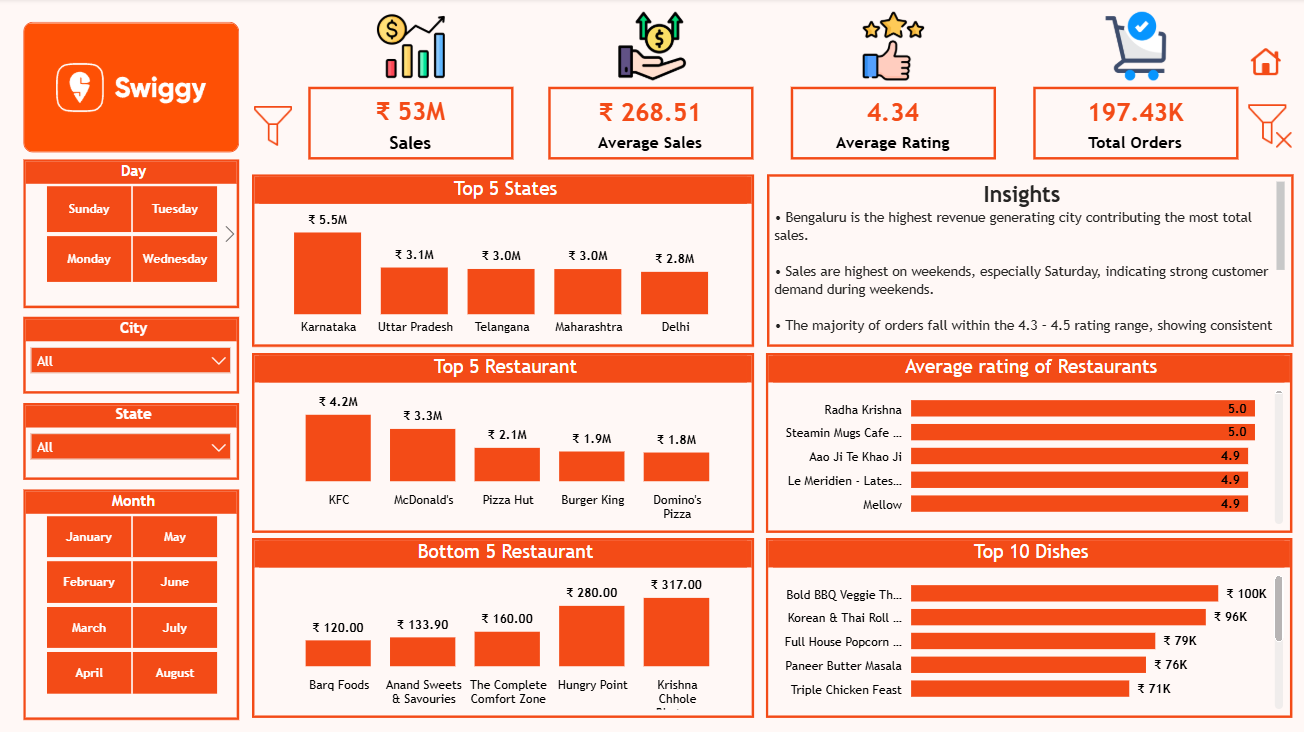

What the dashboard file says about the page in this screenshot:
{"tool":"powerbi","page":{"name":"Home","canvas":[1280,720],"ordinal":0},"visuals":[{"type":"lineChart","title":"Monthly Trend","fields":{"Category":["Calander Table.Date.Variation.Date Hierarchy.Month"],"Y":["Sum(Swiggy Data.Sales)"]},"box":[243.4,536.2,638.3,170.2],"z":0},{"type":"card","fields":{"Values":["Avg(Swiggy Data.Rating)"]},"box":[776.2,86.8,200.9,71.5],"z":1000},{"type":"card","fields":{"Values":["Sum(Swiggy Data.Sales)"]},"box":[304.7,86.8,200.9,71.5],"z":2000},{"type":"card","fields":{"Values":["Avg(Swiggy Data.Sales)"]},"box":[539.6,86.8,200.9,71.5],"z":3000},{"type":"card","fields":{"Values":["CountNonNull(Swiggy Data.Category)"]},"box":[1013.5,86.8,200.9,71.5],"z":4000},{"type":"barChart","title":"Top 5 Restaurant","fields":{"Category":["Swiggy Data.Restaurant Name"],"Y":["Sum(Swiggy Data.Sales)"]},"box":[243.4,168.5,314.9,187.2],"z":5000},{"type":"slicer","title":"State","fields":{"Values":["Swiggy Data.State"]},"box":[25.7,396.3,211,75.5],"z":6000},{"type":"slicer","title":"Month","fields":{"Values":["Calander Table.MonthName"]},"box":[25.7,480.4,211,225.2],"z":7000},{"type":"image","box":[25.7,22.8,211,128.3],"z":8000},{"type":"slicer","title":"City","fields":{"Values":["Swiggy Data.City"]},"box":[25.7,312.2,211,75.5],"z":9000},{"type":"image","box":[305,13.2,201,67],"z":10000},{"type":"image","box":[540.1,13.2,201,67],"z":11000},{"type":"image","box":[776.8,13.2,201,67],"z":12000},{"type":"image","box":[1013.6,13.2,201,67],"z":13000},{"type":"slicer","title":"Day","fields":{"Values":["Calander Table.Day Name"]},"box":[25.7,158.2,211,145.4],"z":14000},{"type":"barChart","title":"Top 5 City","fields":{"Category":["Swiggy Data.City"],"Y":["Sum(Swiggy Data.Sales)"]},"box":[568.6,170,313,187.1],"z":15000},{"type":"barChart","title":"Top Ratings","fields":{"Category":["Swiggy Data.Rating"],"Y":["Sum(Swiggy Data.Rating Count)"]},"box":[890.2,362,376.6,343.6],"z":16000},{"type":"barChart","title":"Top 5 States","fields":{"Category":["Swiggy Data.State"],"Y":["Sum(Swiggy Data.Sales)"]},"box":[890.2,168.8,376.6,187.1],"z":17000},{"type":"image","box":[236.6,104.1,68.4,42.8],"z":18000},{"type":"image","box":[1224.4,104.1,42.8,42.8],"z":19000},{"type":"lineChart","title":"Weekly Trend","fields":{"Y":["Sum(Swiggy Data.Sales)"],"Category":["Calander Table.Day Name"]},"box":[243.3,362,638.3,166.3],"z":20000},{"type":"image","box":[245,37.5,51.2,35],"z":20001},{"type":"image","box":[1216.2,43.8,51.2,28.8],"z":20002}]}

Visuals, with their boxes in screenshot pixels (x1, y1, x2, y2), scaled from the page's 1280x720 canvas onto the 1304x732 screenshot:
"Monthly Trend" lineChart: locate(248, 545, 898, 718)
card - Avg(Swiggy Data.Rating): locate(791, 88, 995, 161)
card - Sum(Swiggy Data.Sales): locate(310, 88, 515, 161)
card - Avg(Swiggy Data.Sales): locate(550, 88, 754, 161)
card - CountNonNull(Swiggy Data.Category): locate(1033, 88, 1237, 161)
"Top 5 Restaurant" barChart: locate(248, 171, 569, 362)
"State" slicer: locate(26, 403, 241, 480)
"Month" slicer: locate(26, 488, 241, 717)
image: locate(26, 23, 241, 154)
"City" slicer: locate(26, 317, 241, 394)
image: locate(311, 13, 515, 82)
image: locate(550, 13, 755, 82)
image: locate(791, 13, 996, 82)
image: locate(1033, 13, 1237, 82)
"Day" slicer: locate(26, 161, 241, 309)
"Top 5 City" barChart: locate(579, 173, 898, 363)
"Top Ratings" barChart: locate(907, 368, 1291, 717)
"Top 5 States" barChart: locate(907, 172, 1291, 362)
image: locate(241, 106, 311, 149)
image: locate(1247, 106, 1291, 149)
"Weekly Trend" lineChart: locate(248, 368, 898, 537)
image: locate(250, 38, 302, 74)
image: locate(1239, 45, 1291, 74)
